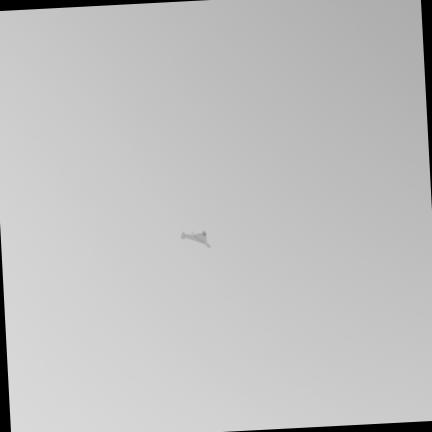Shahed: (182, 231, 210, 247)
